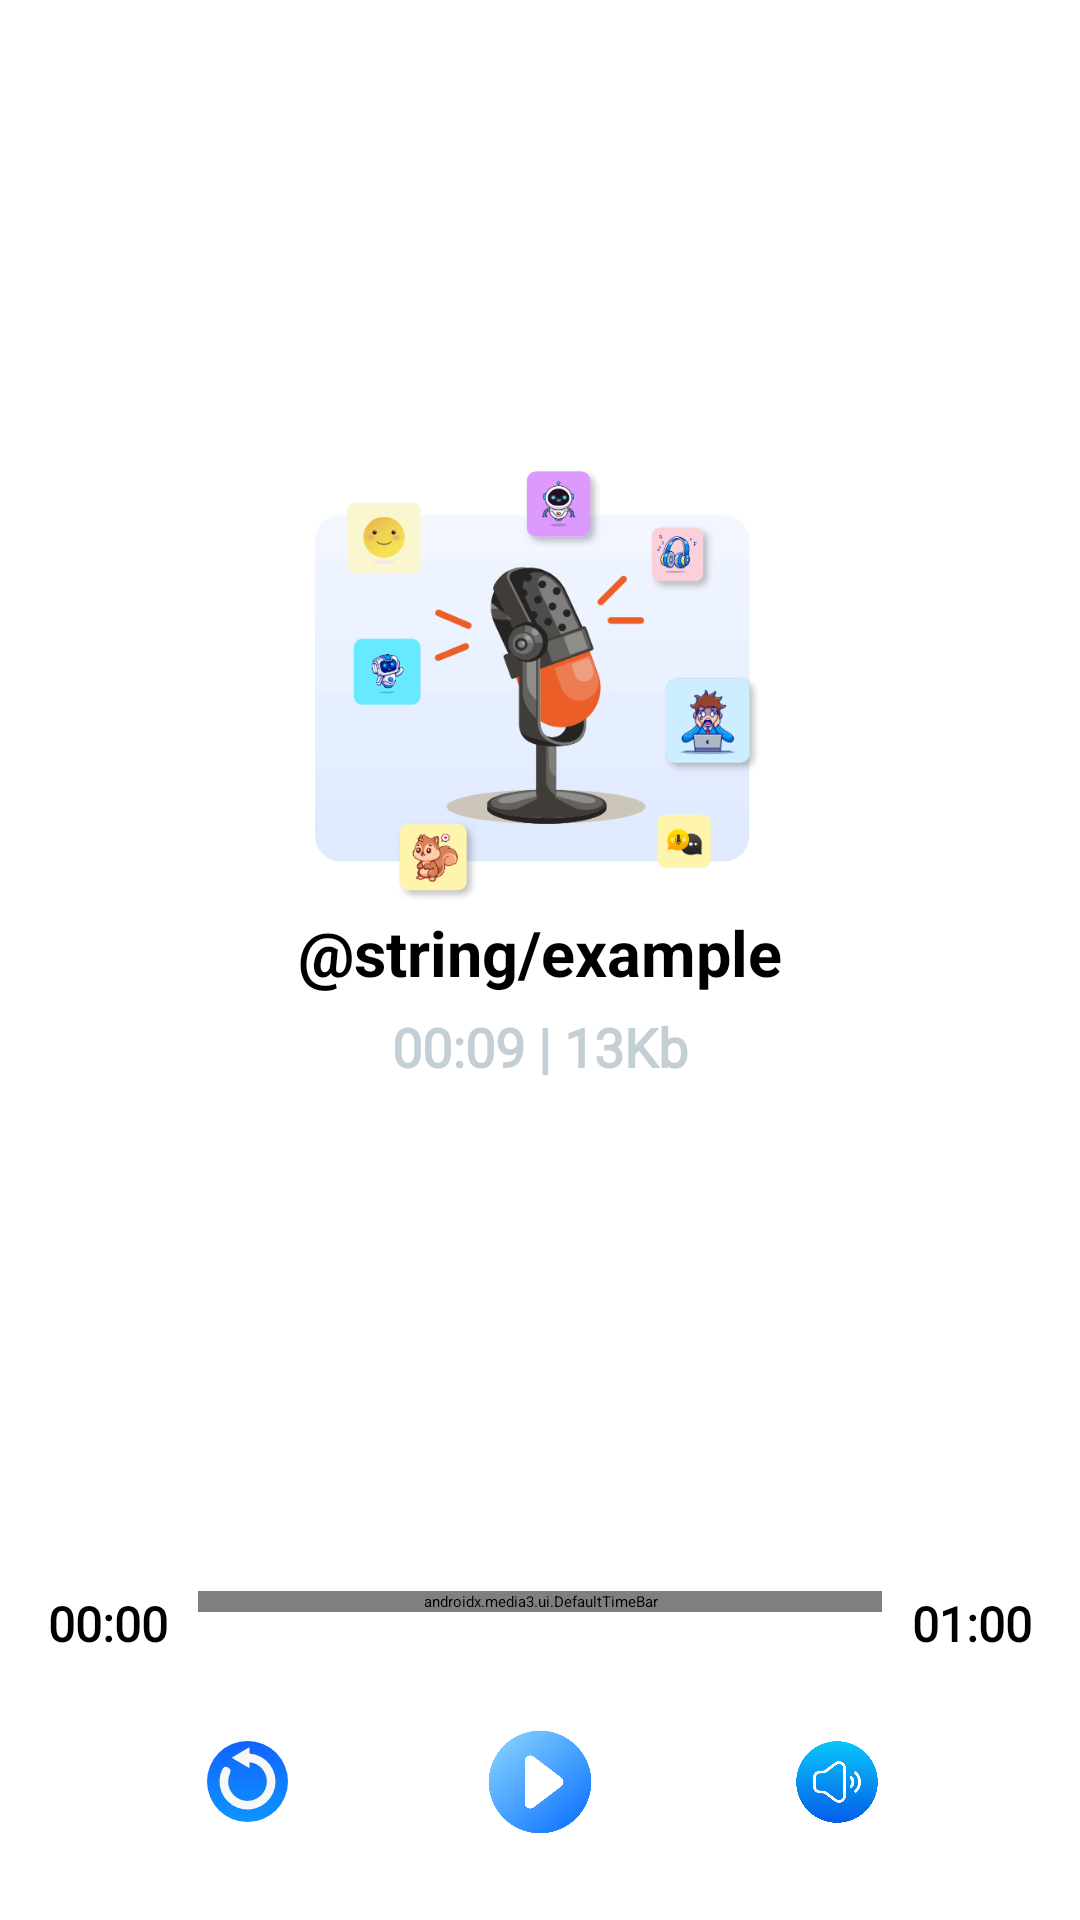

Icon click points for this 1080 x 1920 phone screenshot, format [x,y]:
play: [540,1782]
reset: [247,1781]
volume: [837,1782]
